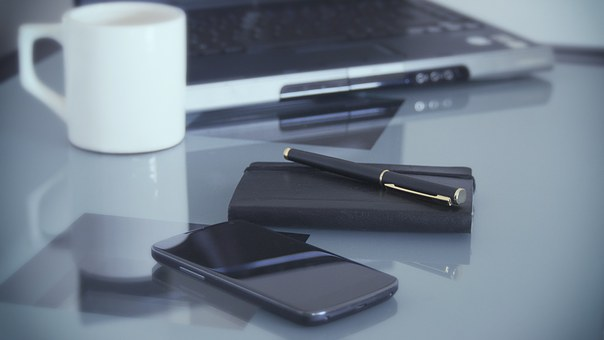mobile: (151, 213, 414, 322)
